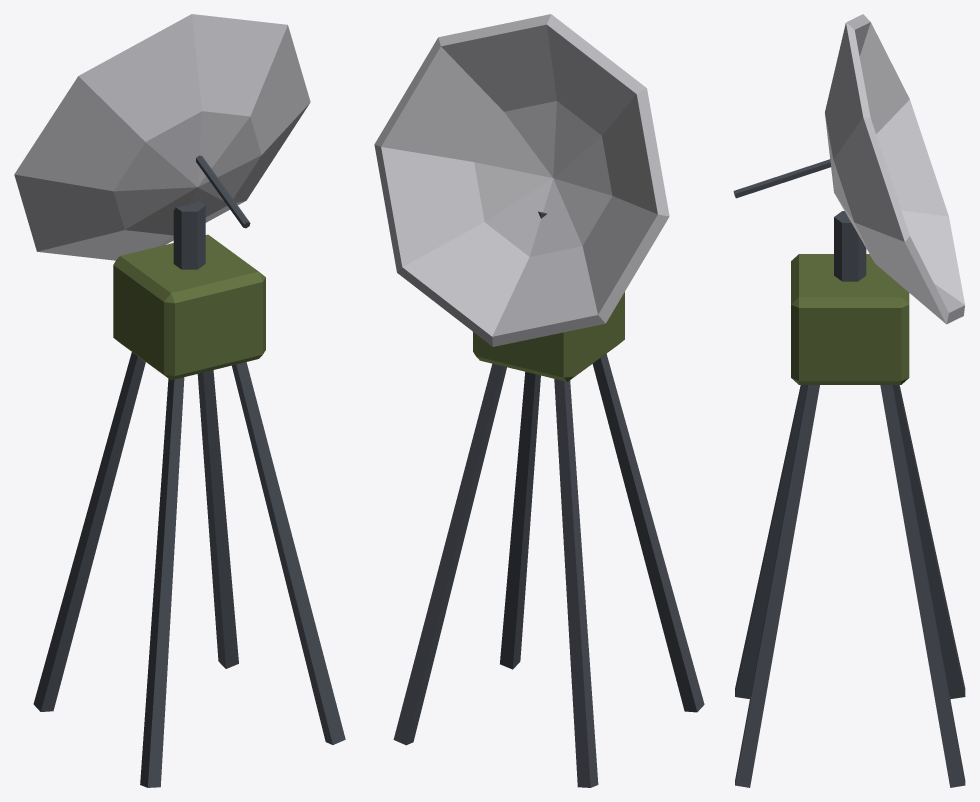
Rendered from RadarTower.fbx.
3 renders of one model, left to right at view 1: azimuth 30°, elevation 25°; view 2: azimuth 150°, elevation 25°; view 3: azimuth 270°, elevation 25°, orthographic.
Visible parts, largest first — view 1: RadarTower_Dish, RadarTower; view 2: RadarTower_Dish, RadarTower; view 3: RadarTower, RadarTower_Dish.
Boxes of the visible parts, x1,y1,x2,y2 form: RadarTower_Dish: [14, 14, 310, 269]; RadarTower: [33, 234, 345, 787]; RadarTower_Dish: [374, 14, 669, 346]; RadarTower: [393, 292, 704, 787]; RadarTower: [735, 254, 965, 787]; RadarTower_Dish: [733, 14, 964, 324].
Size of the model in its own units: 6.4 by 14.73 by 4.31.
Materials: 1 (1 with a texture image).
